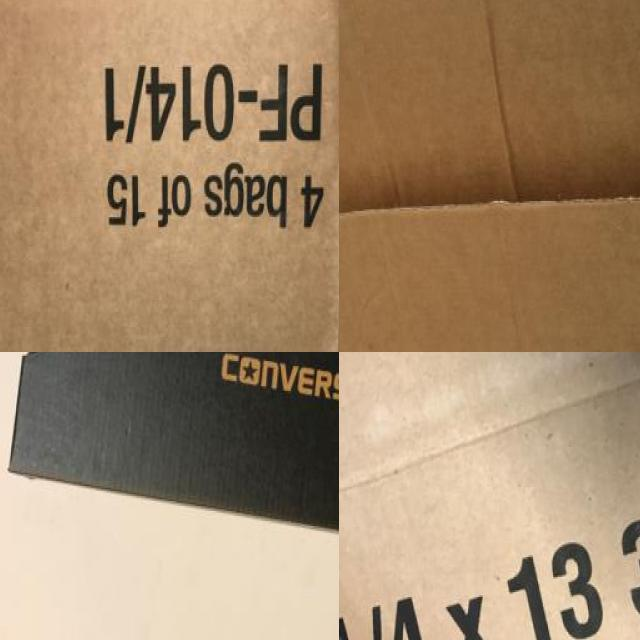class_name: (0, 0, 339, 352), (339, 0, 640, 352), (339, 352, 640, 640), (0, 352, 339, 573)
